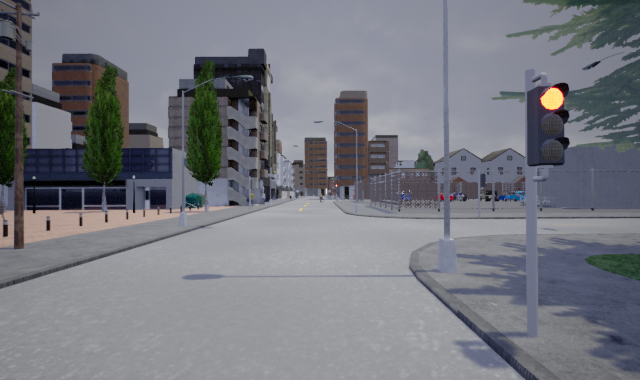traffic_light: (526, 82, 570, 167)
vehicle: (477, 188, 499, 201), (503, 191, 526, 202), (448, 191, 468, 202)
